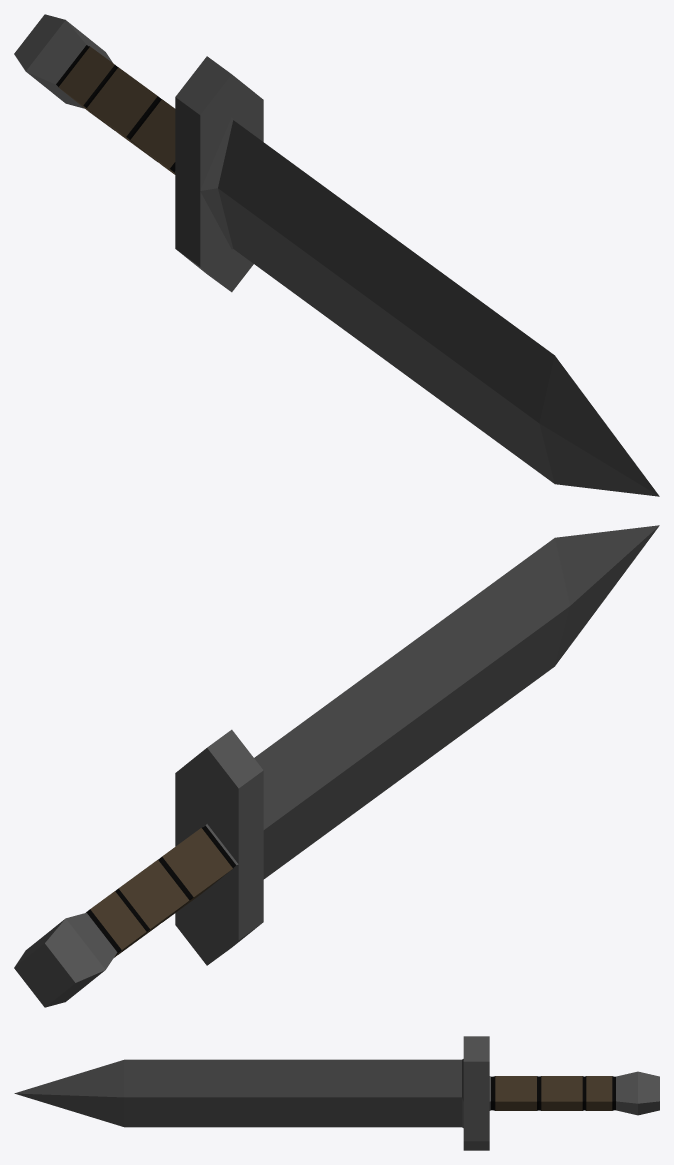
The model's file is SwordIron.fbx.
3 renders of one model, top to bottom at view 1: azimuth 30°, elevation 25°; view 2: azimuth 150°, elevation 25°; view 3: azimuth 270°, elevation 25°, orthographic. The views are drawn at different scales.
Visible parts, largest first — view 1: Sword.Iron; view 2: Sword.Iron; view 3: Sword.Iron.
Boxes of the visible parts, x1=… form: Sword.Iron: x1=14, y1=14, x2=659, y2=496; Sword.Iron: x1=14, y1=525, x2=659, y2=1007; Sword.Iron: x1=14, y1=1036, x2=659, y2=1150.
Bounding box in the file's own units: 11.03 × 28.74 × 147.
